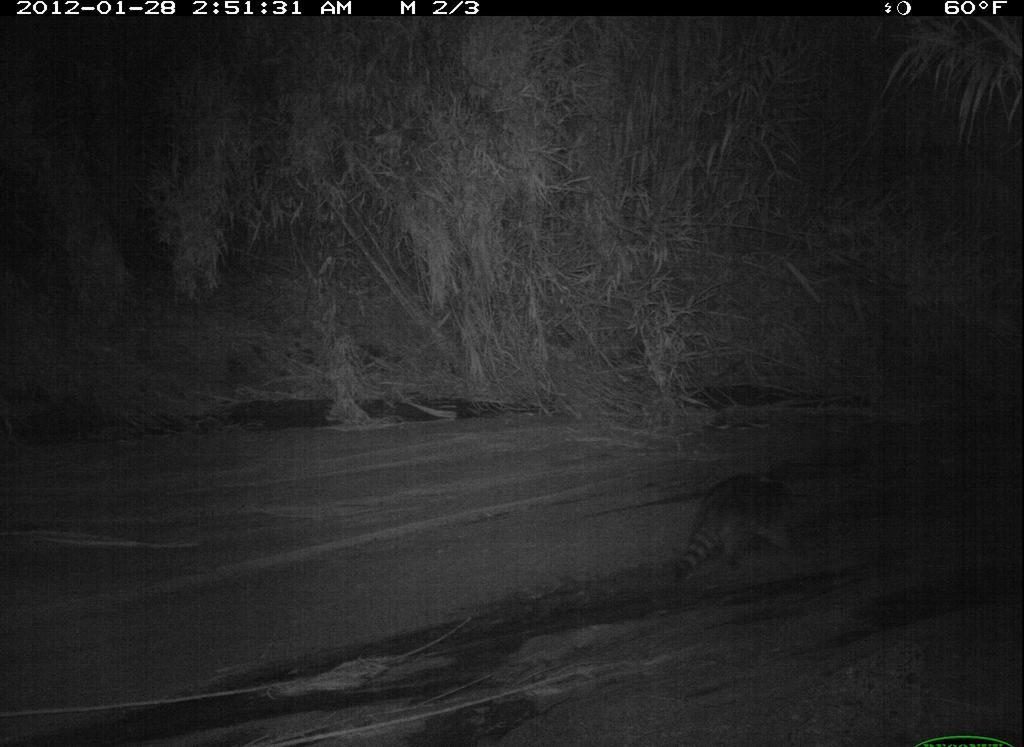raccoon: (676, 469, 801, 583)
